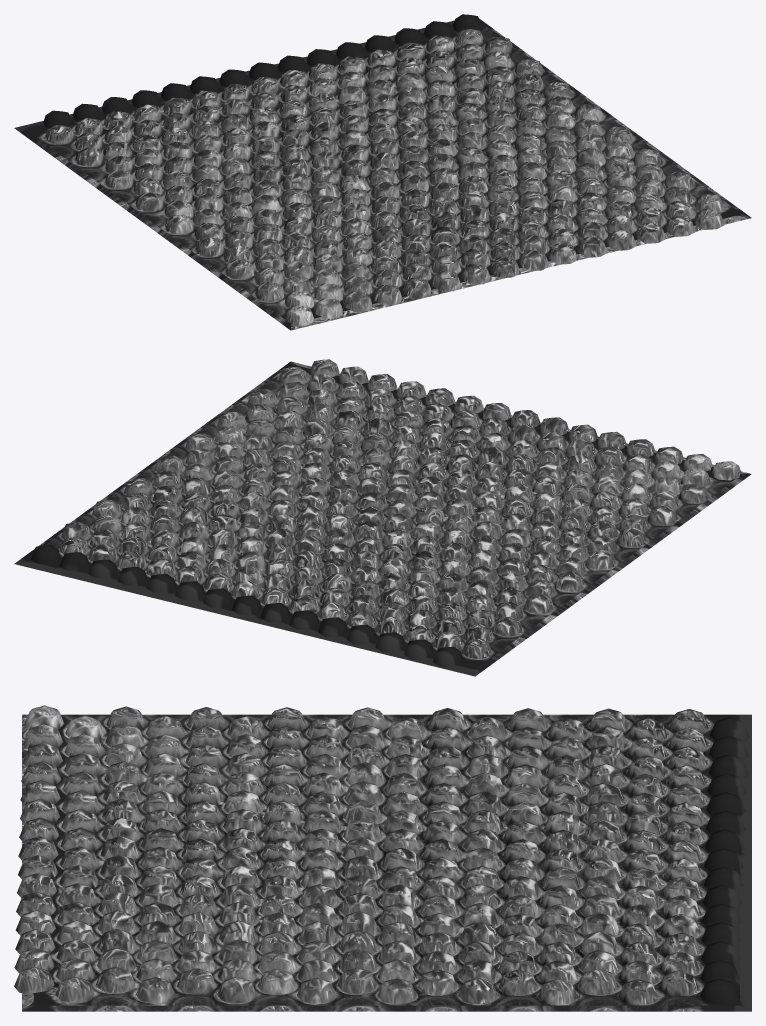
The model's file is bubblewrap.fbx.
3 renders of one model, top to bottom at view 1: azimuth 30°, elevation 25°; view 2: azimuth 150°, elevation 25°; view 3: azimuth 270°, elevation 25°, orthographic. The views are drawn at different scales.
Visible parts, largest first — view 1: BubbleWrap; view 2: BubbleWrap; view 3: BubbleWrap, BubbleWrap_.255, BubbleWrap_.225, BubbleWrap_.060, BubbleWrap_.075, BubbleWrap_.120, BubbleWrap_.150, BubbleWrap_.210, BubbleWrap_, BubbleWrap_.016, BubbleWrap_.030, BubbleWrap_.045 (+259 smaller).
Part boxes in pixels (x1=…): BubbleWrap: x1=14, y1=18, x2=751, y2=330; BubbleWrap: x1=14, y1=361, x2=751, y2=676; BubbleWrap: x1=22, y1=714, x2=751, y2=1011; BubbleWrap_.255: x1=14, y1=966, x2=54, y2=993; BubbleWrap_.225: x1=660, y1=970, x2=698, y2=996; BubbleWrap_.060: x1=217, y1=976, x2=256, y2=1002; BubbleWrap_.075: x1=257, y1=968, x2=296, y2=994; BubbleWrap_.120: x1=377, y1=978, x2=416, y2=1004; BubbleWrap_.150: x1=458, y1=977, x2=497, y2=1003; BubbleWrap_.210: x1=618, y1=979, x2=657, y2=1005; BubbleWrap_: x1=55, y1=976, x2=94, y2=1002; BubbleWrap_.016: x1=96, y1=966, x2=135, y2=992; BubbleWrap_.030: x1=136, y1=977, x2=175, y2=1003; BubbleWrap_.045: x1=177, y1=968, x2=216, y2=994.
Size of the model in its own units: 307 by 9.26 by 322.
